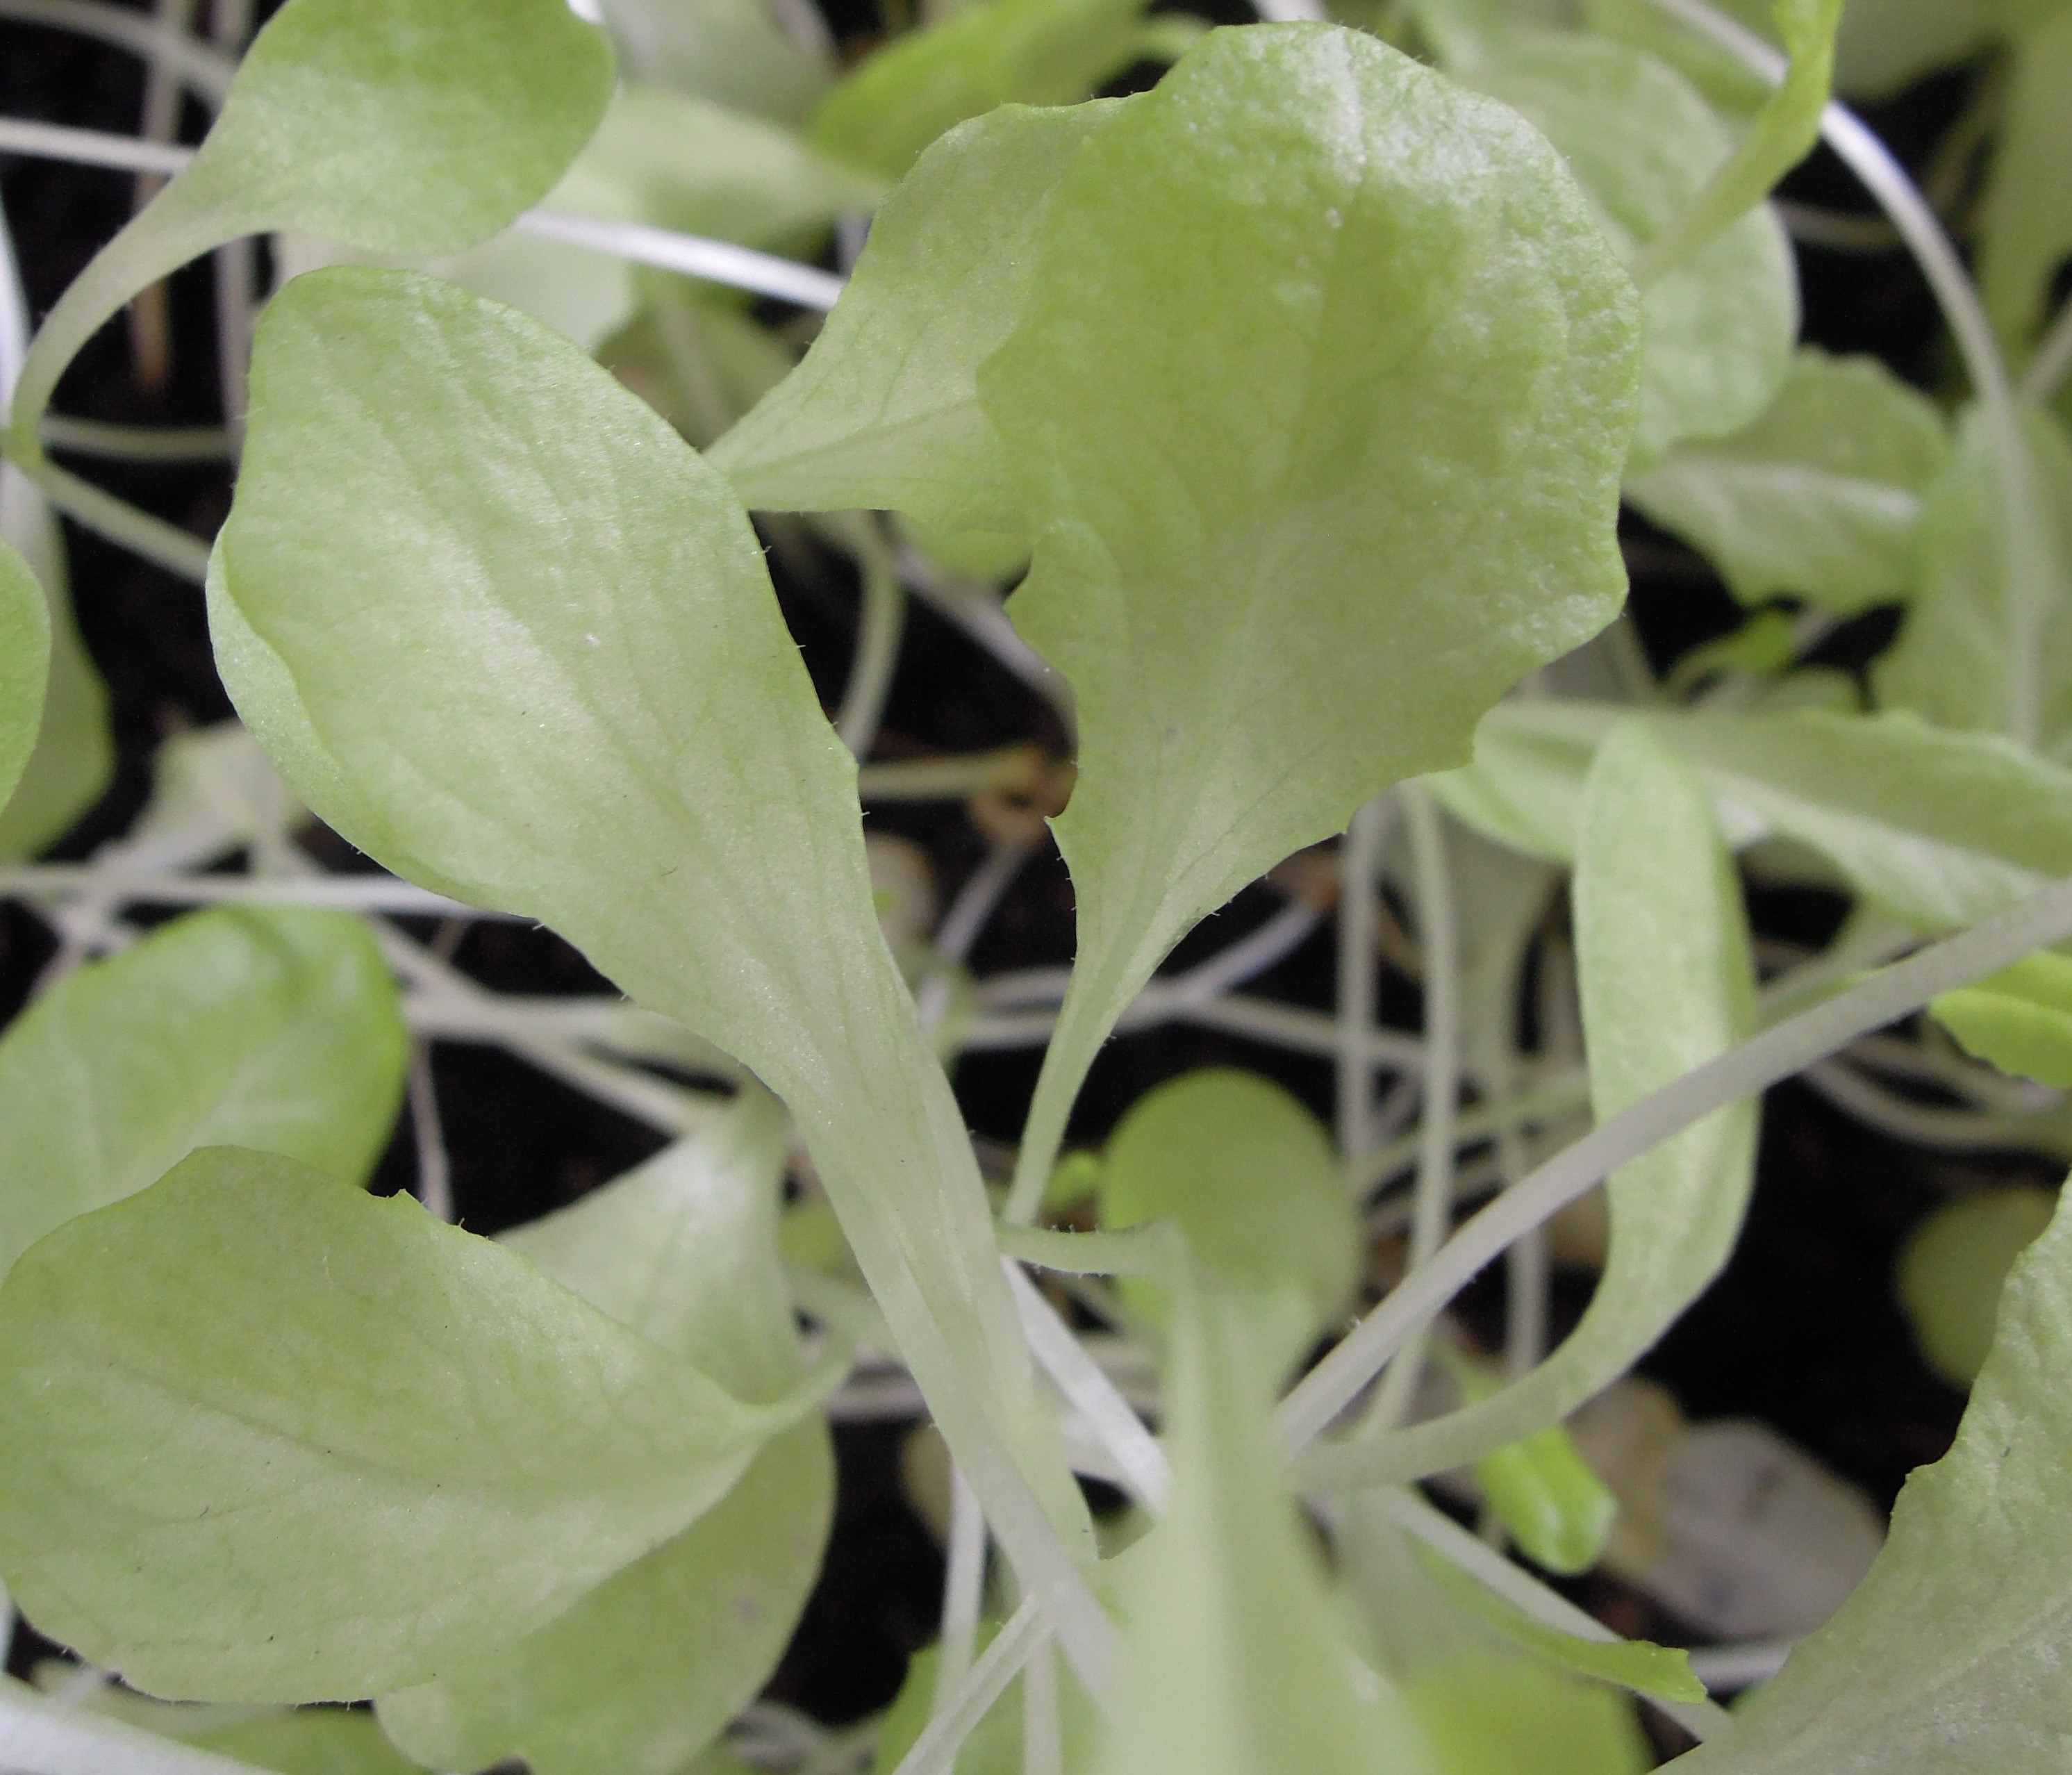weeek6: (167, 28, 1776, 1638)
